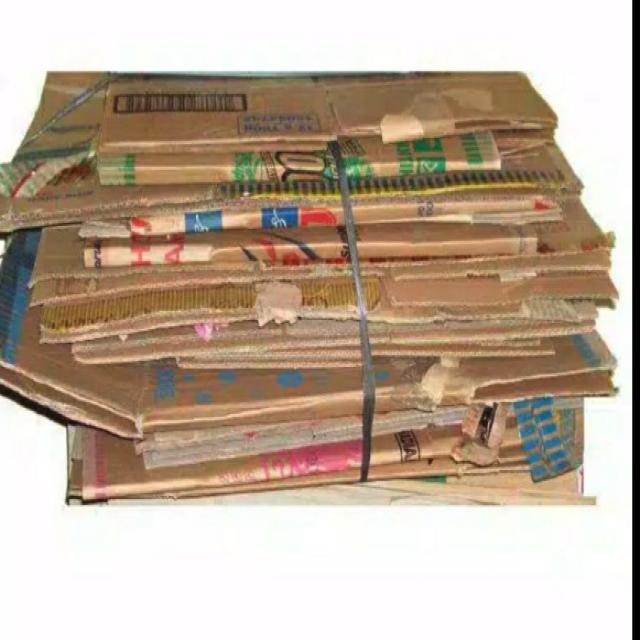Kardus: (0, 68, 620, 505)
